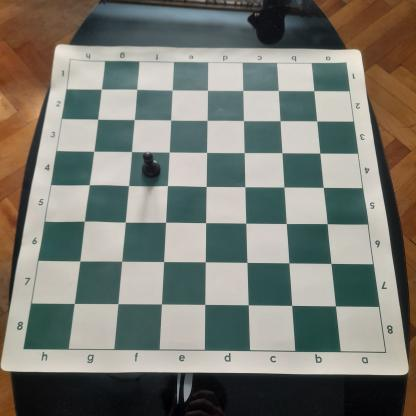black-pawn: (139, 151, 164, 178)
